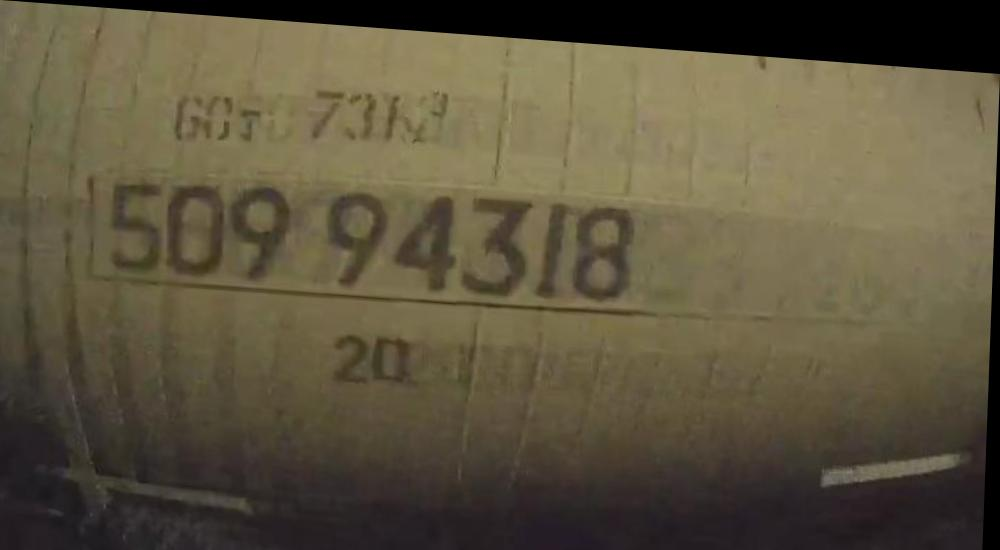Wagon-number: (101, 162, 654, 308)
